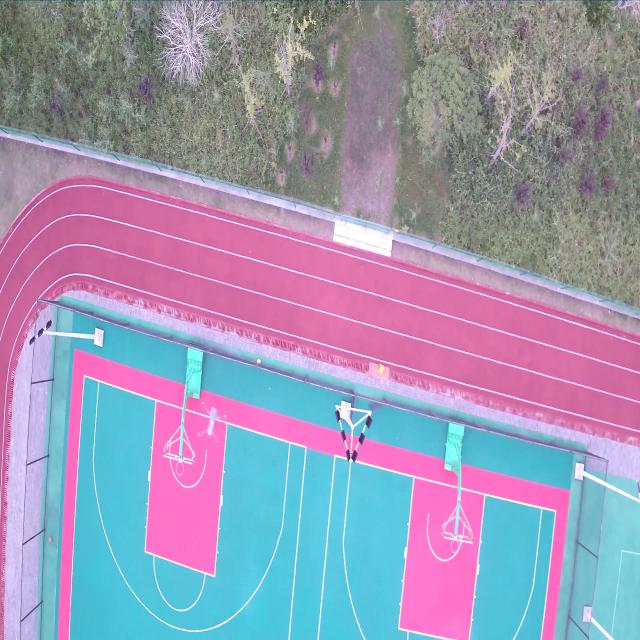UAV: (196, 401, 228, 446)
